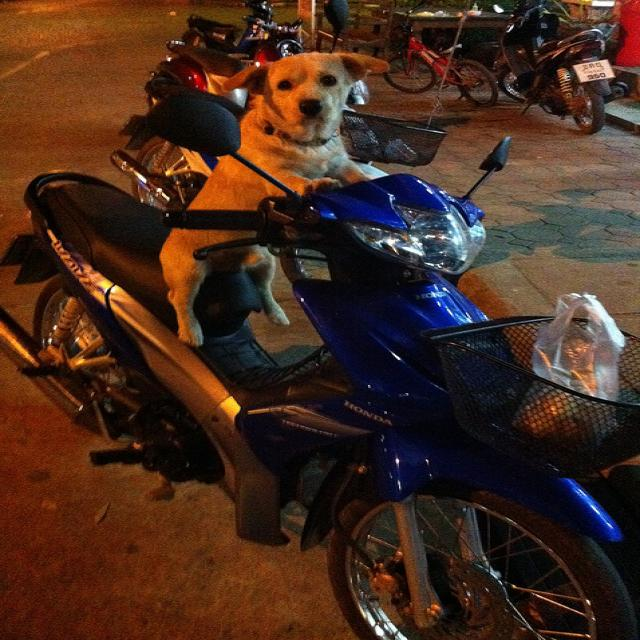Dog: (28, 199, 640, 640), (134, 57, 388, 325)
Motorbike: (30, 200, 639, 640), (484, 12, 616, 133), (142, 1, 282, 44)
